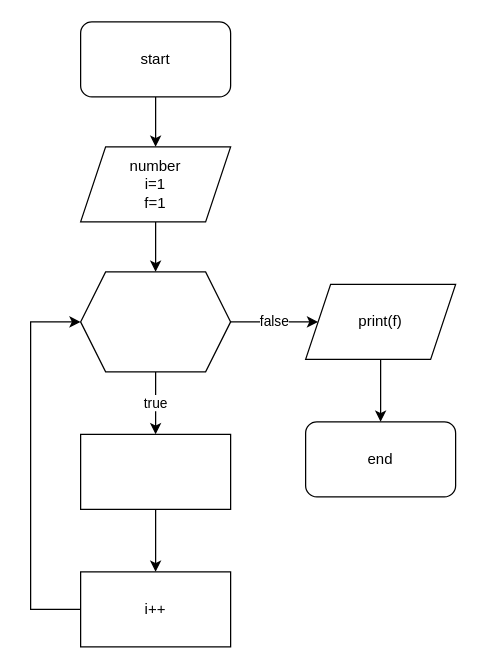
Image size: 478x669. Some labels were removed from this diagram. Each missing label, with the box of its shape:
f=f*i: (79, 433, 231, 509)
i<=number: (79, 271, 231, 372)
